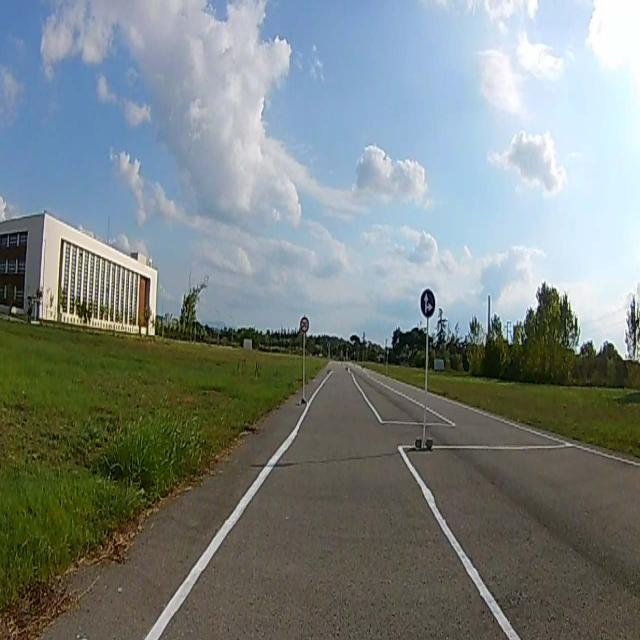ilerisag: (420, 289, 436, 316)
